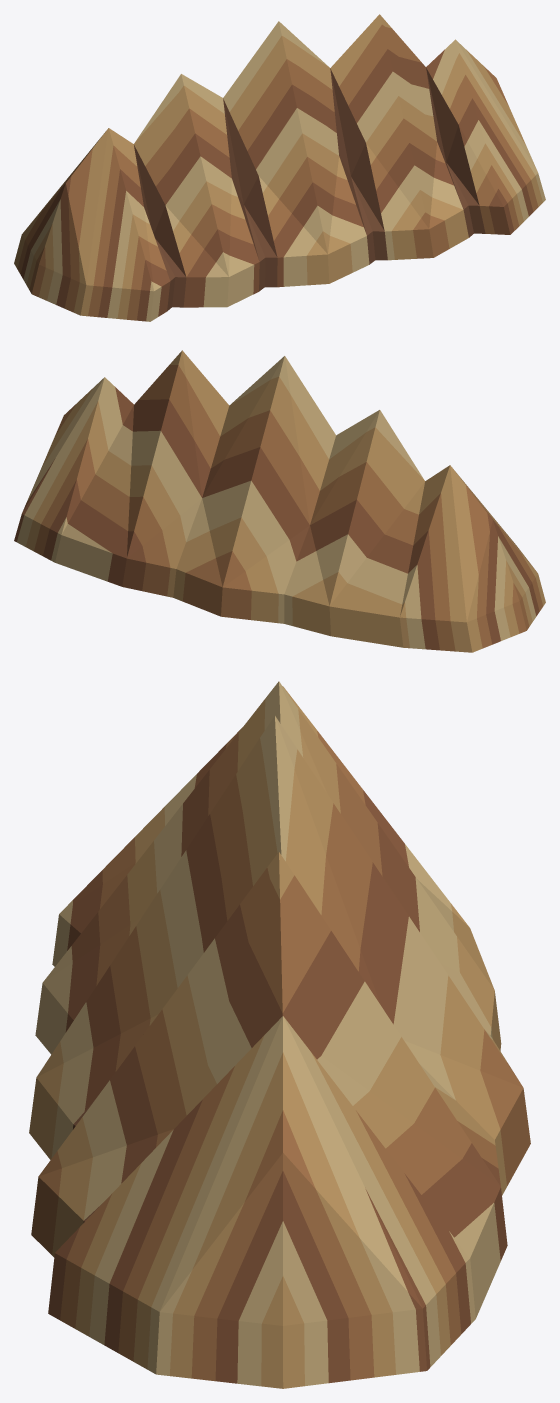
The model's file is strata_ridge.glb.
3 renders of one model, top to bottom at view 1: azimuth 30°, elevation 25°; view 2: azimuth 150°, elevation 25°; view 3: azimuth 270°, elevation 25°, orthographic. The views are drawn at different scales.
Visible parts, largest first — view 1: strata_ridge; view 2: strata_ridge; view 3: strata_ridge.
Boxes of the visible parts, box(x1,y1,x2,y2) form: strata_ridge: box(14, 14, 545, 321); strata_ridge: box(14, 350, 545, 652); strata_ridge: box(29, 681, 530, 1388).
Bounding box in the file's own units: 2.78 × 1.15 × 1.22.
